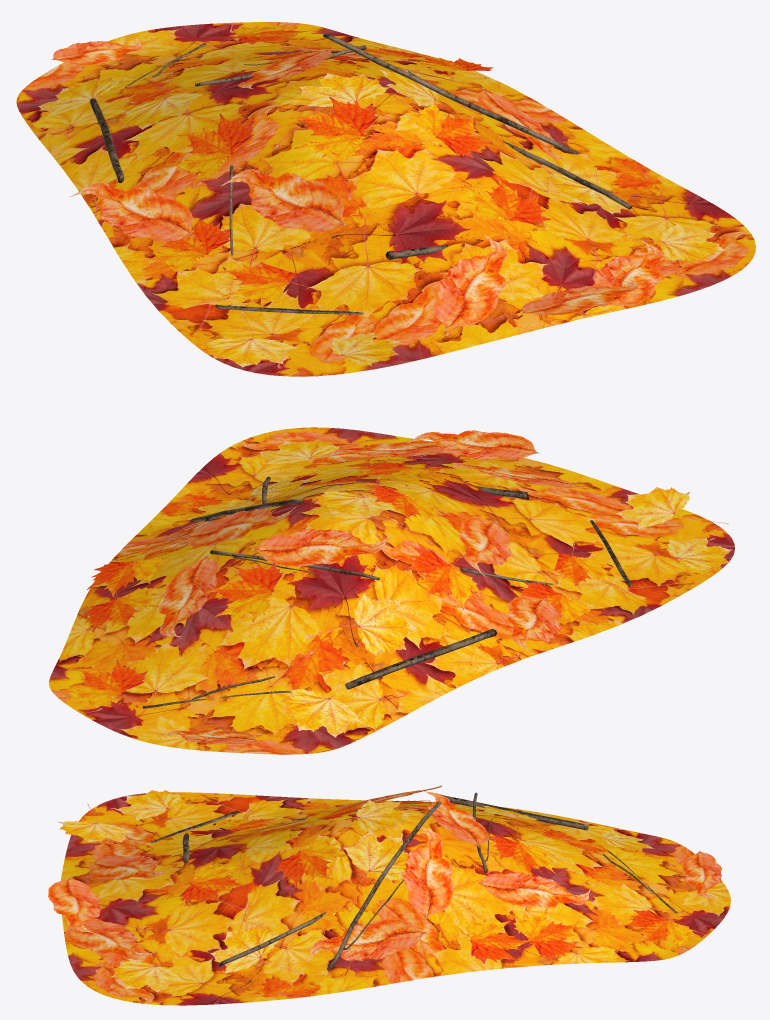
The model's file is Carreta_hojas_lvl3.fbx.
3 views of the same model, one above another, from view 1: azimuth 30°, elevation 25°; view 2: azimuth 150°, elevation 25°; view 3: azimuth 270°, elevation 25° (orthographic). The views are drawn at different scales.
Visible parts, largest first — view 1: Lvl3, leaf3.018, leaf3.024, leaf3.017, leaf2.021, leaf2.014, leaf3.021, leaf2.019, leaf3.023, leaf2.017, leaf2.020, leaf1.015 (+17 smaller); view 2: Lvl3, leaf3.020, leaf3.016, leaf1.011, leaf3.023, leaf2.016, leaf4.005, leaf3.024, leaf3.018, leaf2.014, leaf3.022, leaf2.015 (+16 smaller); view 3: Lvl3, leaf3.022, leaf3.019, leaf3.016, leaf1.013, leaf3.021, leaf3.023, leaf1.014, leaf2.022, leaf2.017, leaf2.023, leaf3.020 (+15 smaller).
Part boxes in pixels (x1=…): Lvl3: x1=16, y1=22, x2=755, y2=376; leaf3.018: x1=220, y1=169, x2=345, y2=232; leaf3.024: x1=69, y1=182, x2=194, y2=241; leaf3.017: x1=434, y1=234, x2=507, y2=329; leaf2.021: x1=289, y1=97, x2=392, y2=165; leaf2.014: x1=169, y1=114, x2=253, y2=184; leaf3.021: x1=593, y1=240, x2=664, y2=306; leaf2.019: x1=463, y1=176, x2=550, y2=239; leaf3.023: x1=520, y1=278, x2=637, y2=315; leaf2.017: x1=404, y1=100, x2=492, y2=158; leaf2.020: x1=154, y1=220, x2=230, y2=272; leaf1.015: x1=298, y1=73, x2=400, y2=125; Lvl3: x1=49, y1=427, x2=734, y2=754; leaf3.020: x1=252, y1=528, x2=390, y2=566; leaf3.016: x1=159, y1=554, x2=218, y2=637; leaf1.011: x1=305, y1=593, x2=417, y2=657; leaf3.023: x1=406, y1=430, x2=539, y2=459; leaf2.016: x1=203, y1=563, x2=302, y2=622; leaf4.005: x1=281, y1=661, x2=362, y2=737; leaf3.024: x1=505, y1=596, x2=561, y2=653; leaf3.018: x1=458, y1=517, x2=511, y2=576; leaf2.014: x1=405, y1=547, x2=484, y2=609; leaf3.022: x1=184, y1=506, x2=297, y2=547; leaf2.015: x1=61, y1=660, x2=147, y2=708; Lvl3: x1=61, y1=792, x2=730, y2=1005; leaf3.022: x1=403, y1=824, x2=453, y2=919; leaf3.019: x1=307, y1=918, x2=427, y2=961; leaf3.016: x1=477, y1=872, x2=590, y2=908; leaf1.013: x1=343, y1=830, x2=408, y2=909; leaf3.021: x1=65, y1=918, x2=156, y2=959; leaf3.023: x1=48, y1=876, x2=101, y2=933; leaf1.014: x1=210, y1=924, x2=303, y2=974; leaf2.022: x1=513, y1=908, x2=582, y2=960; leaf2.017: x1=274, y1=834, x2=349, y2=887; leaf2.023: x1=441, y1=916, x2=532, y2=963; leaf3.020: x1=418, y1=789, x2=489, y2=847.
Bounding box in the file's own units: 73.23 × 17.19 × 104.
